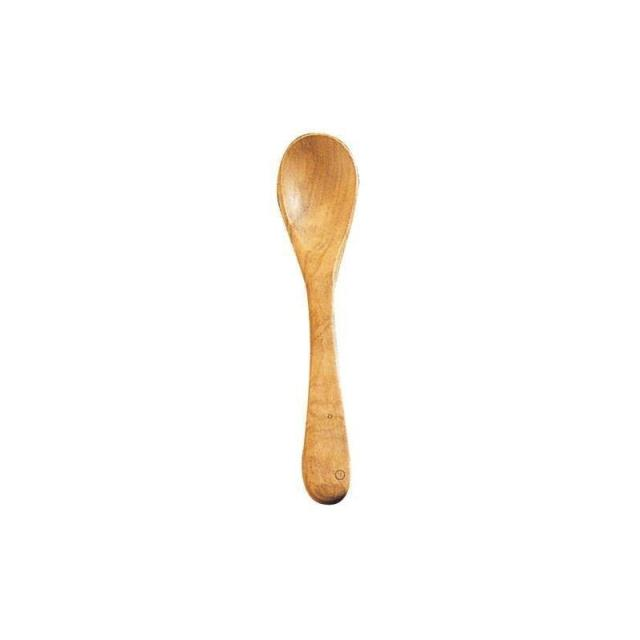spoon: (250, 115, 392, 511)
